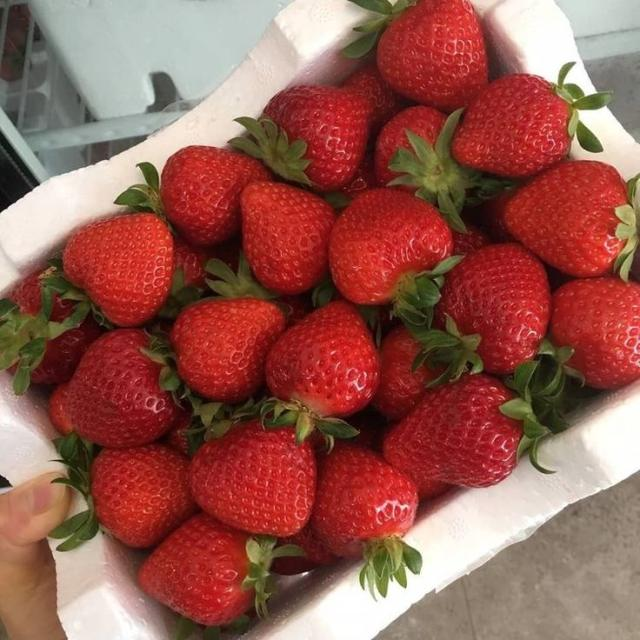strawberry: (414, 244, 550, 379), (453, 64, 612, 178), (139, 514, 292, 626), (376, 107, 510, 232), (312, 444, 421, 596), (263, 301, 379, 440), (344, 0, 487, 111), (505, 161, 638, 279), (115, 146, 271, 246), (329, 188, 453, 313), (384, 374, 522, 486), (189, 420, 316, 536), (231, 86, 371, 191), (67, 329, 179, 447), (139, 514, 253, 625), (63, 214, 173, 326), (0, 271, 100, 393), (171, 298, 286, 402), (160, 147, 270, 246), (91, 444, 196, 547), (241, 182, 335, 294), (551, 278, 639, 389), (373, 327, 437, 420), (375, 106, 446, 186), (159, 238, 213, 319), (343, 63, 405, 131), (272, 525, 337, 575), (470, 191, 515, 242), (174, 239, 217, 287), (349, 405, 387, 452), (341, 154, 376, 201), (48, 383, 73, 435), (453, 224, 491, 255), (277, 294, 313, 326), (166, 411, 191, 456)
